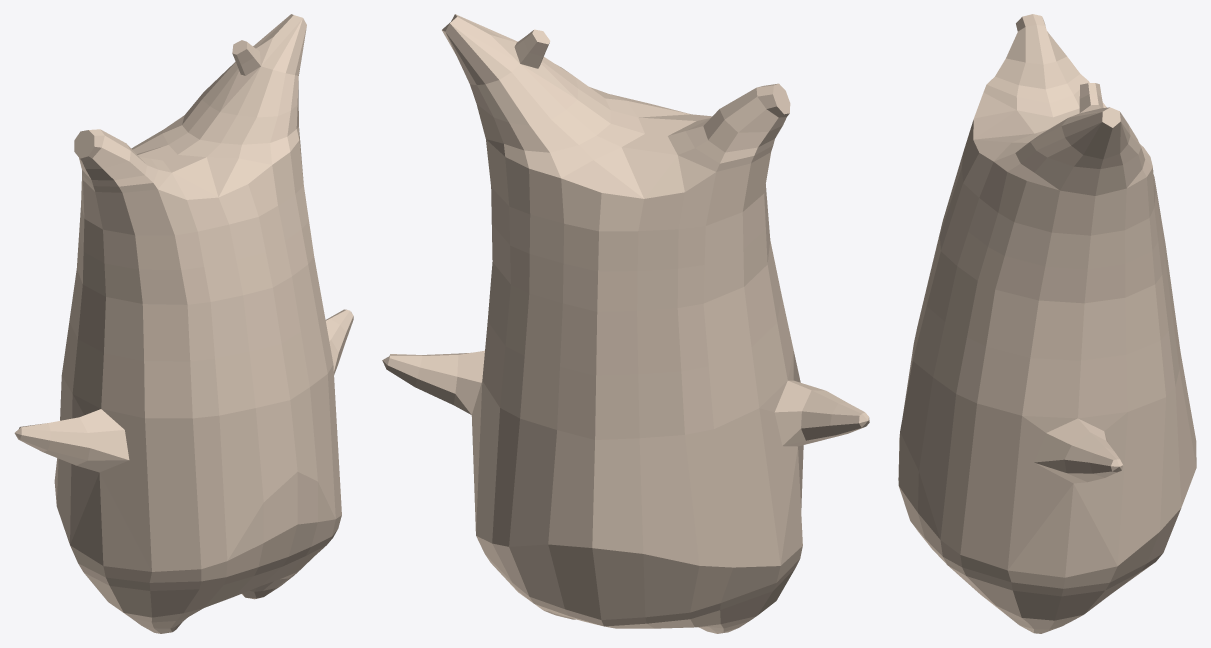
File: frame_0063.obj
3 views of the same model, side by side, from view 1: azimuth 30°, elevation 25°; view 2: azimuth 150°, elevation 25°; view 3: azimuth 270°, elevation 25° (orthographic). The views are drawn at different scales.
Visible parts, largest first — view 1: korok; view 2: korok; view 3: korok.
Part boxes in pixels (x1=…): korok: x1=14, y1=14, x2=353, y2=633; korok: x1=382, y1=14, x2=869, y2=633; korok: x1=898, y1=14, x2=1196, y2=633.
Bounding box in the file's own units: 1.59 × 2.14 × 1.03.
